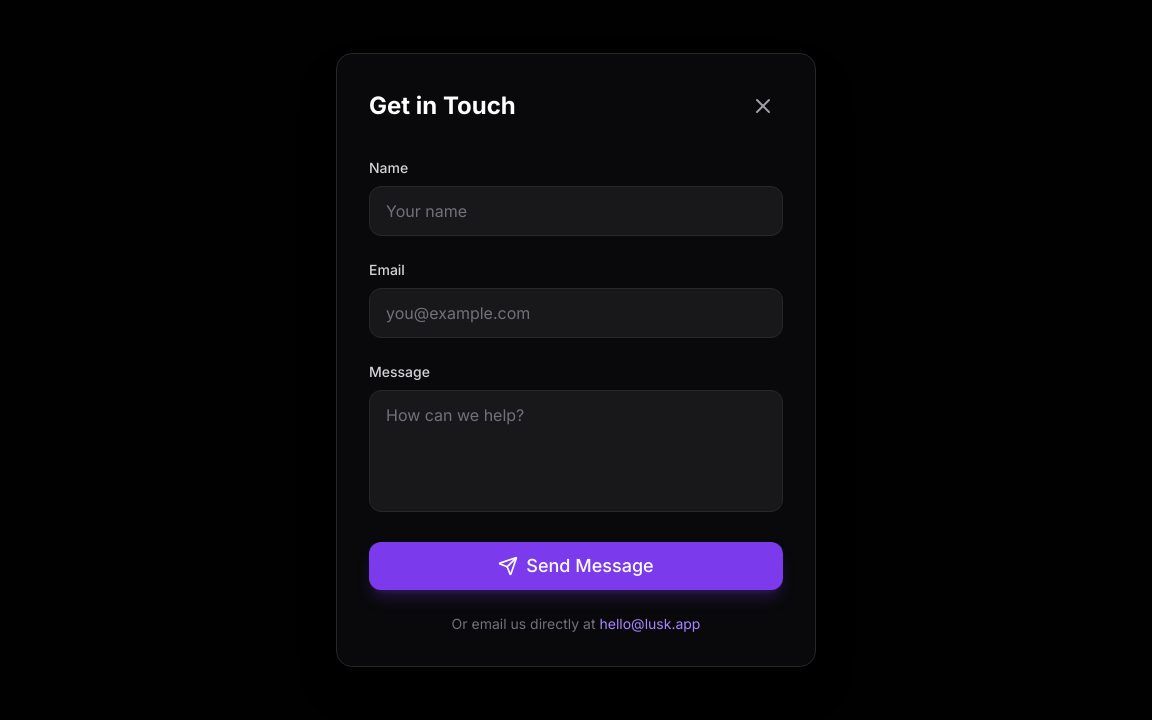
Test: ContactModal › submits form and shows success message
This screenshot has width=1152, height=720.
Type "Test User" into the field labelled "Name" at coordinates (576, 211), box [369,186,783,236]
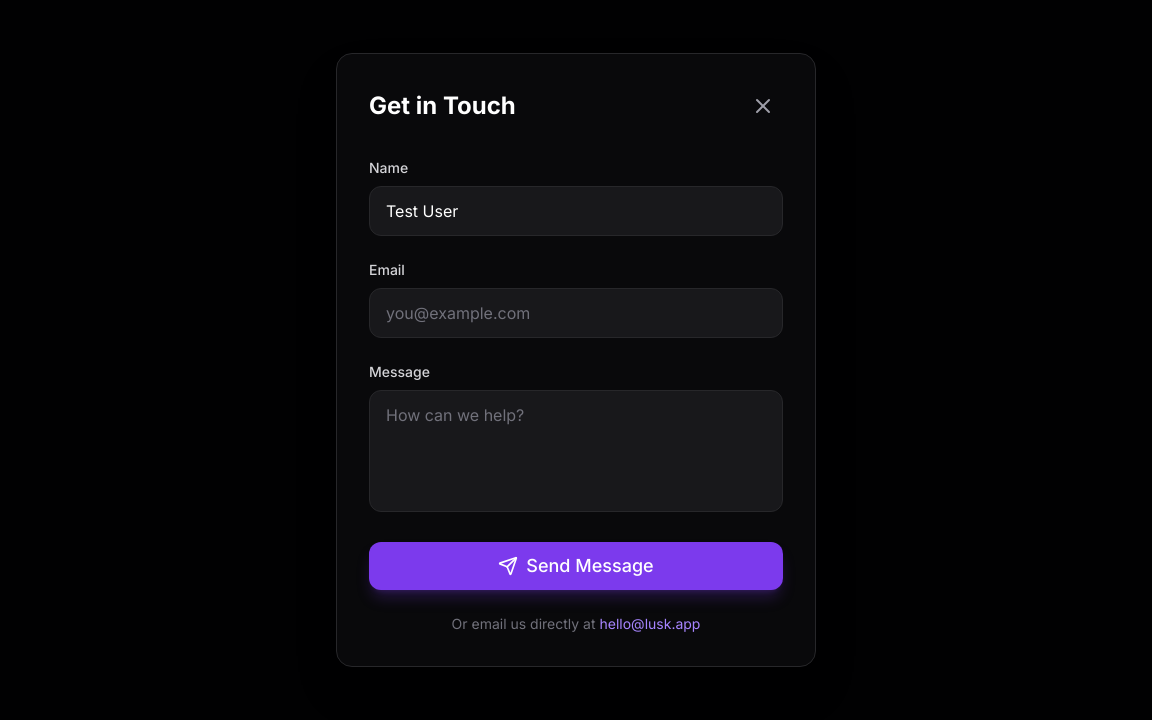
Type "test@example.com" into the field labelled "Email" at coordinates (576, 313), box [369,288,783,338]
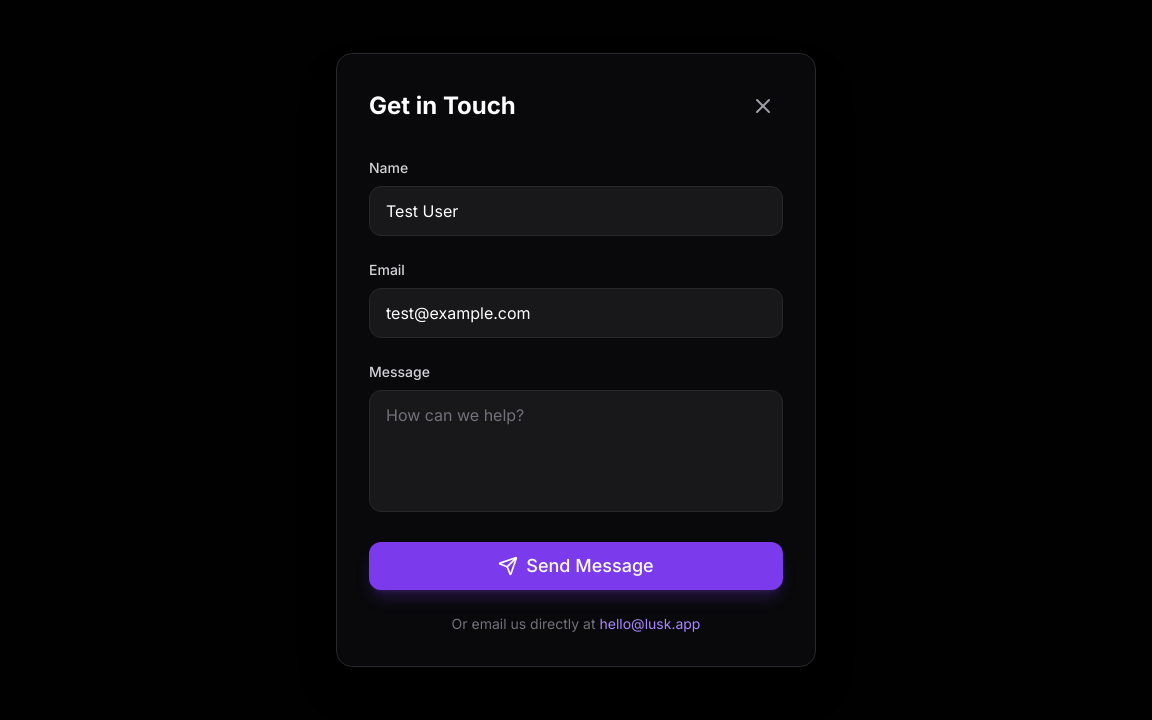
Type "Test message" into the text box labelled "Message" at coordinates (576, 451), box [369,390,783,512]
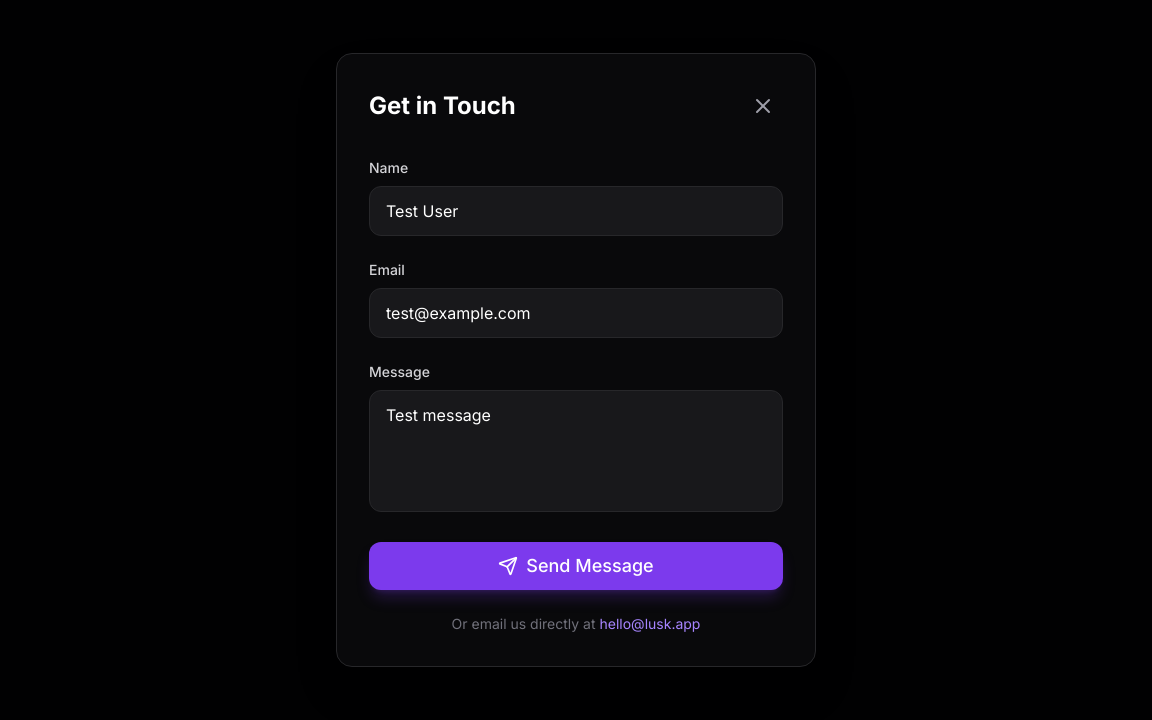
Click the button "Send Message" at coordinates (576, 566), box [369,542,783,590]
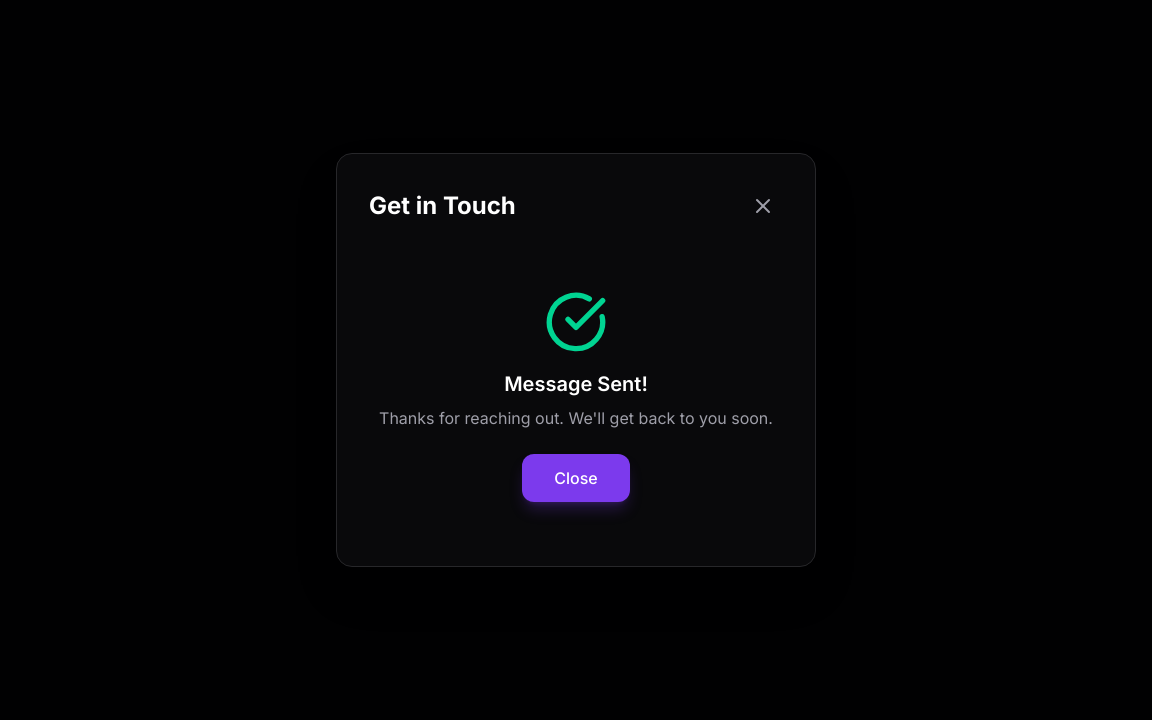
Expected: the heading "Message Sent!" is shown, [504,372,648,396]
